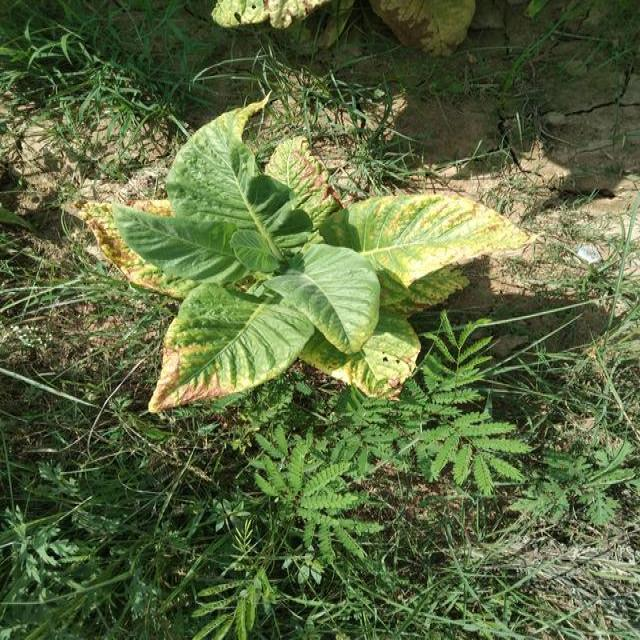crop: (105, 112, 512, 391)
